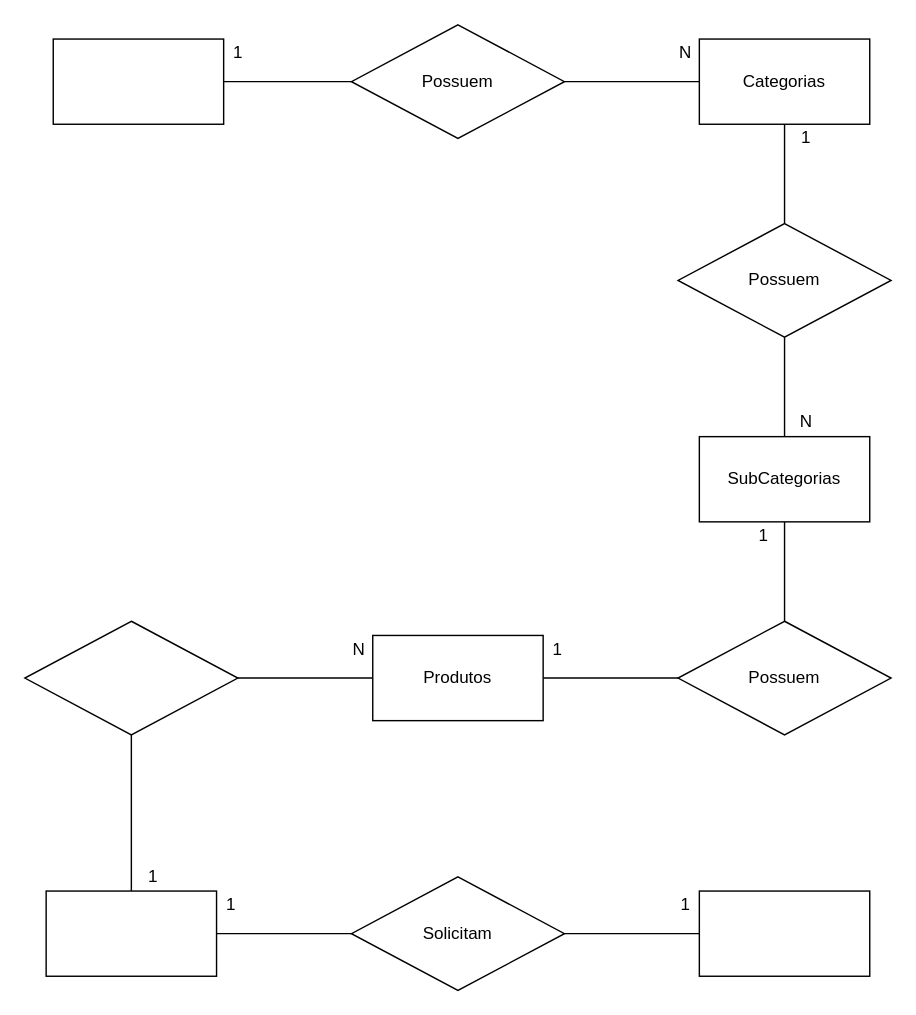
The diagram is 916 pixels wide and 1015 high, and some of its shapes have lost their labels. Each missing label, with the centre of its shape:
"Clientes" goes at point 784,933.
"Incluem" goes at point 130,677.
"Lojas" goes at point 138,81.
"Pedidos" goes at point 131,933.
